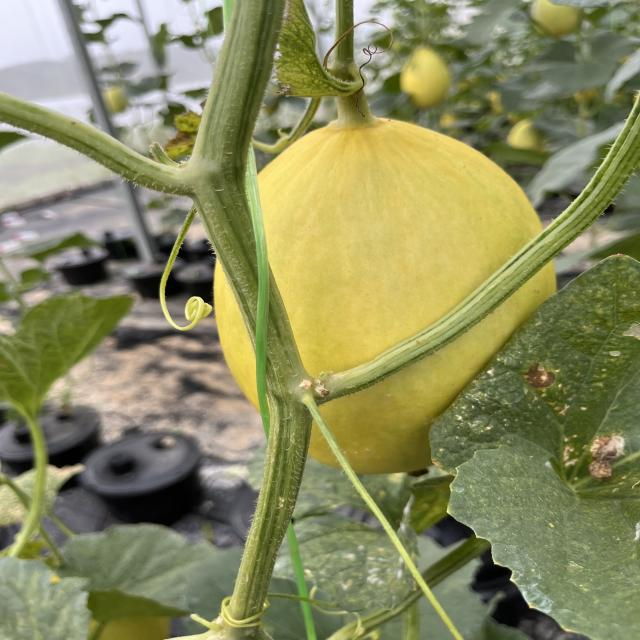downy mildew: (432, 253, 640, 640), (272, 0, 366, 101)
powdery mildew: (426, 256, 640, 640)
